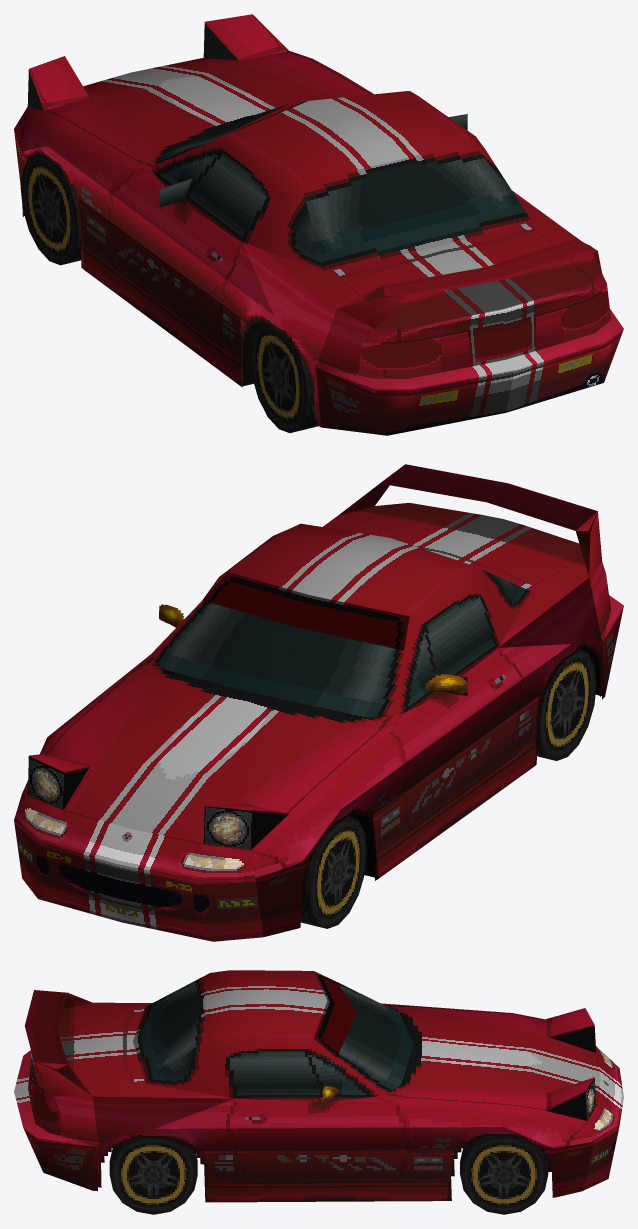
The model's file is night.glb.
The picture shows the model from 3 angles, top to bottom: view 1: azimuth 30°, elevation 25°; view 2: azimuth 150°, elevation 25°; view 3: azimuth 270°, elevation 25°; orthographic projection. The views are drawn at different scales.
Parts seen in each view (by area): view 1: Native body LOD0, Native wheel 2, Native wheel 0; view 2: Native body LOD0, Native wheel 0, Native wheel 2; view 3: Native body LOD0, Native wheel 1, Native wheel 3.
Part boxes in pixels (x1,y1,x2,y2): Native body LOD0: (14,14,623,435); Native wheel 2: (250,322,318,432); Native wheel 0: (20,152,81,265); Native body LOD0: (14,464,623,941); Native wheel 0: (301,816,367,928); Native wheel 2: (537,649,596,760); Native body LOD0: (14,970,623,1202); Native wheel 1: (460,1136,548,1214); Native wheel 3: (109,1137,197,1214).
Size of the model in its own units: 1.76 by 1.19 by 3.95.
15 materials, 14 textured.
